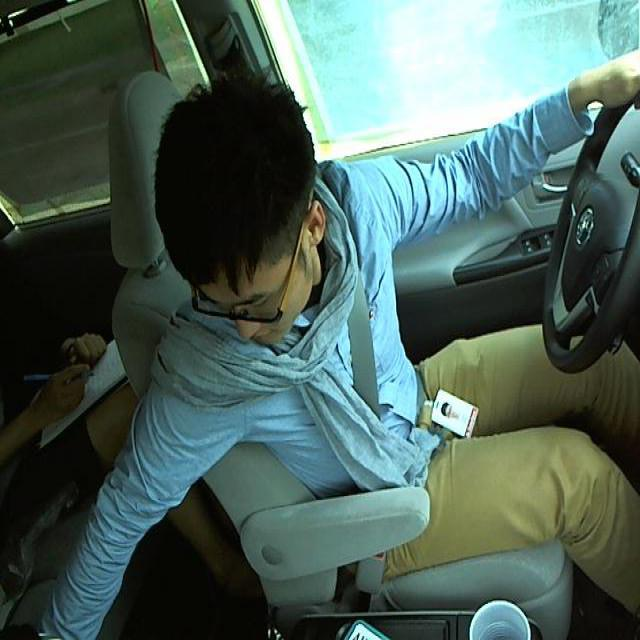seatbelt: (341, 312, 387, 479)
